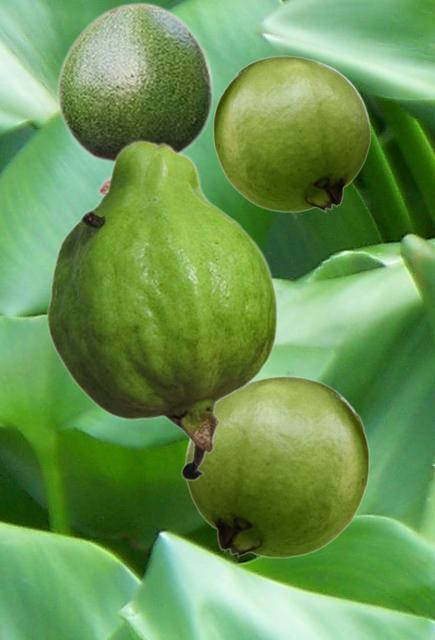guava: (45, 139, 277, 480), (184, 375, 369, 557), (56, 1, 214, 198), (212, 55, 370, 212)
